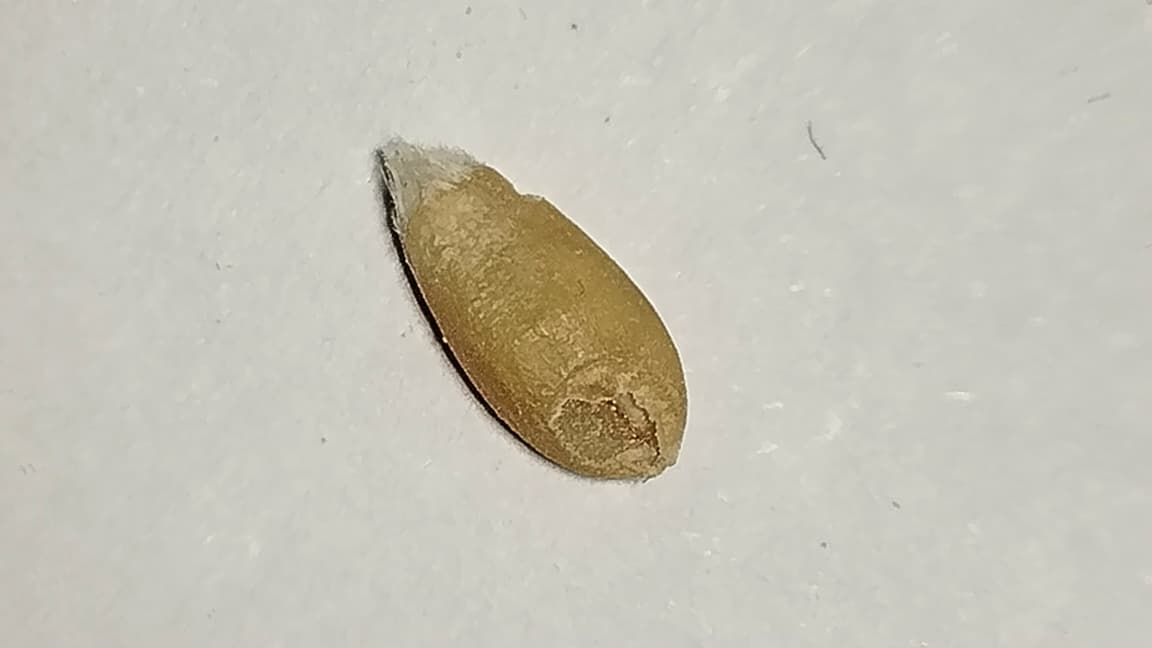damage: (378, 139, 685, 479)
insectdamage: (530, 363, 664, 467)
